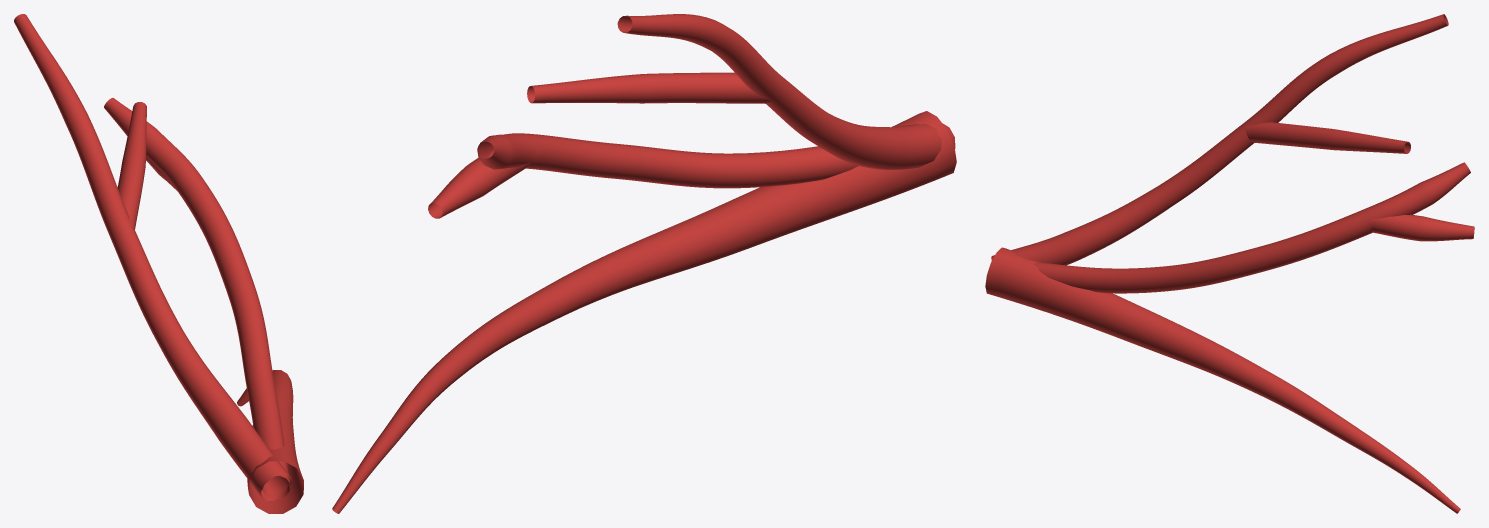
3 views of the same model, side by side, from view 1: azimuth 30°, elevation 25°; view 2: azimuth 150°, elevation 25°; view 3: azimuth 270°, elevation 25° (orthographic). The views are drawn at different scales.
Parts seen in each view (by area): view 1: 左肺前底段动脉; view 2: 左肺前底段动脉; view 3: 左肺前底段动脉.
Part boxes in pixels (box(x1,y1,x2,y2)): 左肺前底段动脉: box(14, 14, 303, 513); 左肺前底段动脉: box(332, 14, 956, 513); 左肺前底段动脉: box(985, 14, 1474, 513).
Bounding box in the file's own units: 0.06 × 0.1037 × 0.1147.
